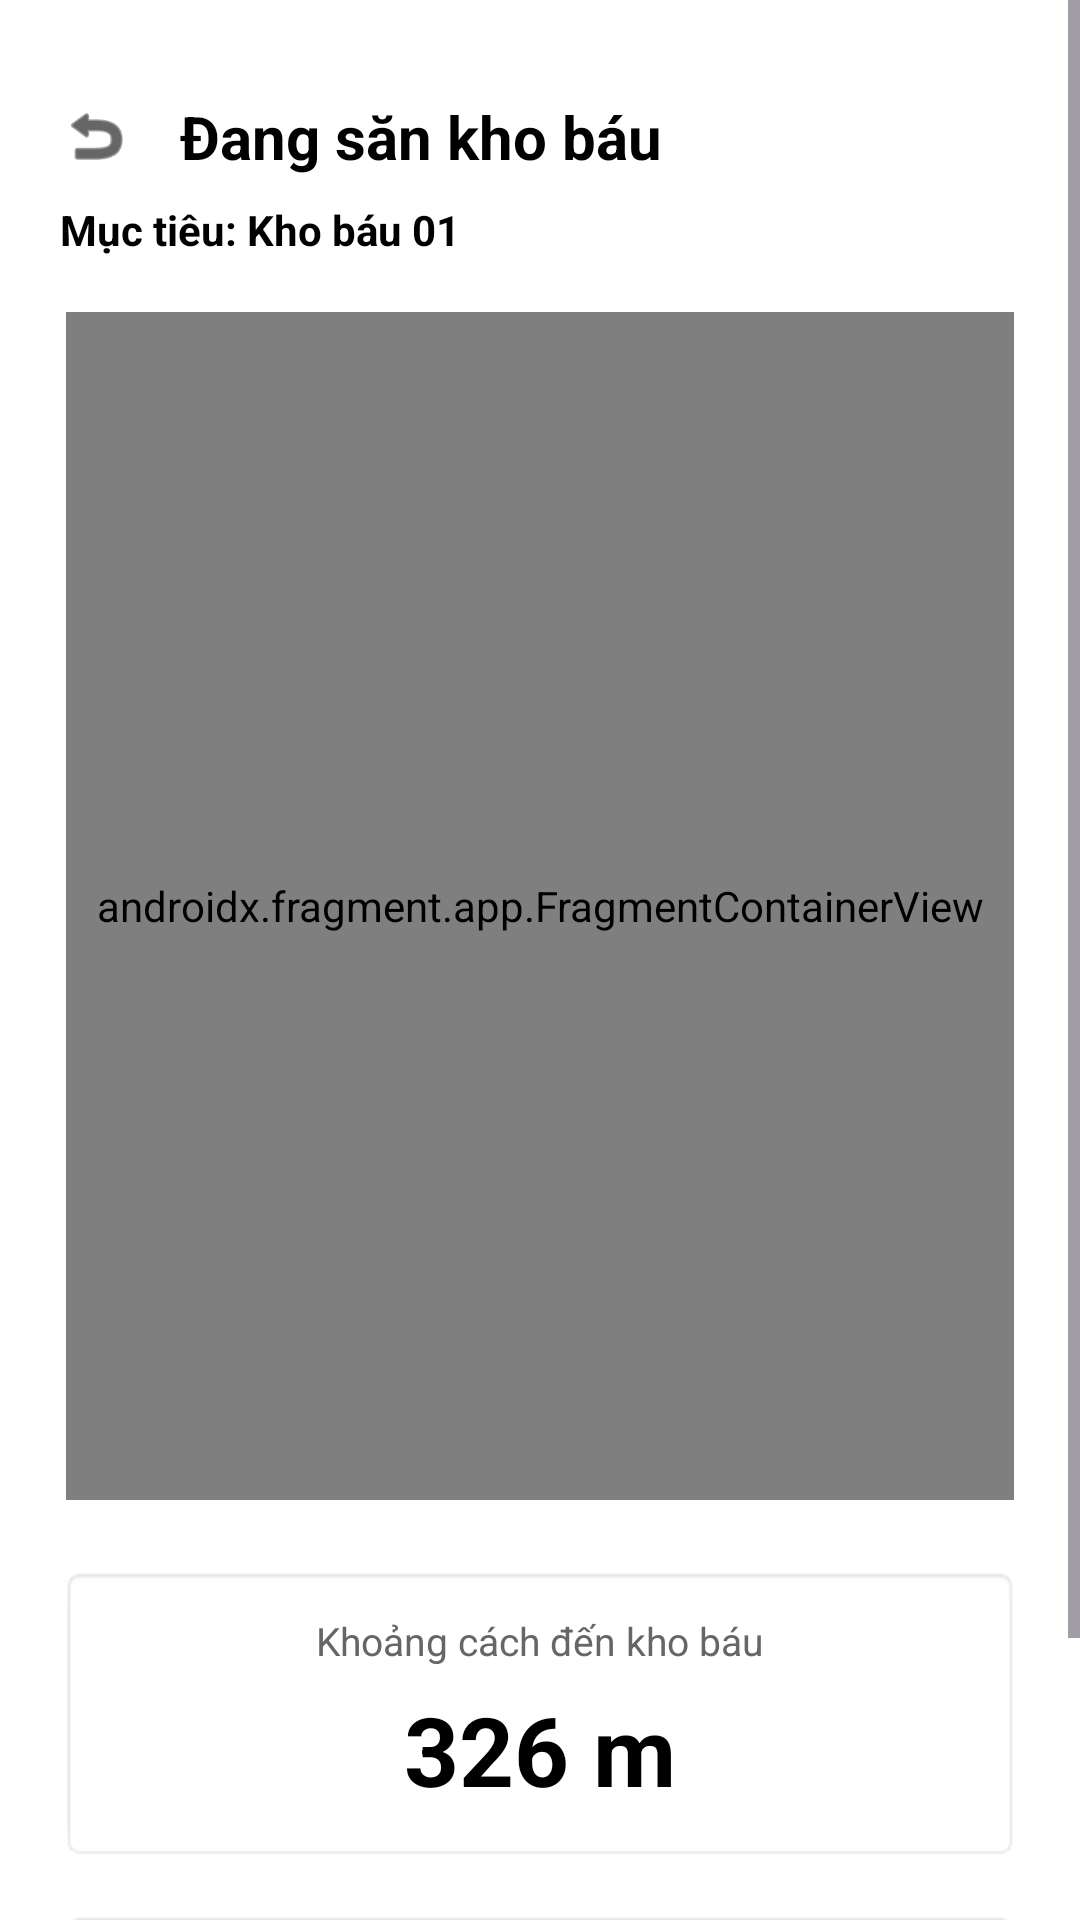

Icons on this 1080 x 1920 Android screen, each with the point to tap as (x=x, y=y):
Quay lại: (x=97, y=136)
